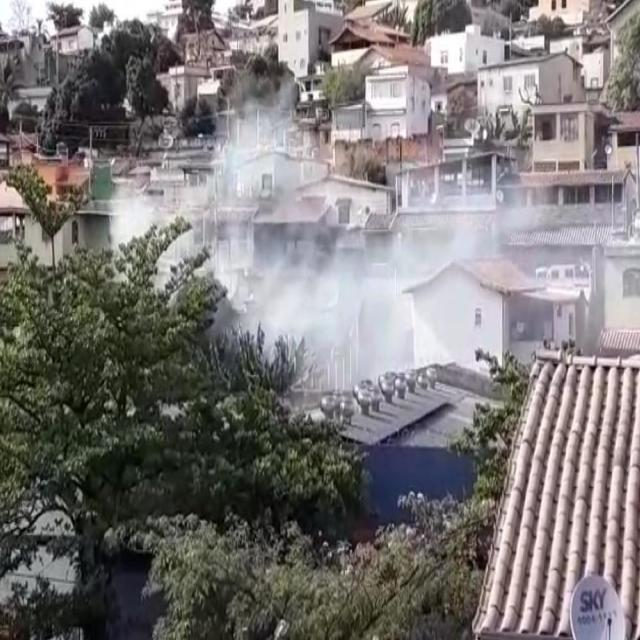Smoke: (106, 124, 319, 264), (248, 267, 510, 380)
